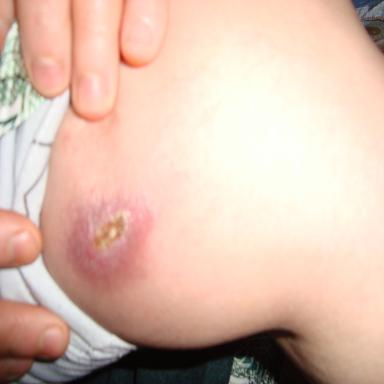Leishmanios: (67, 192, 155, 280)
